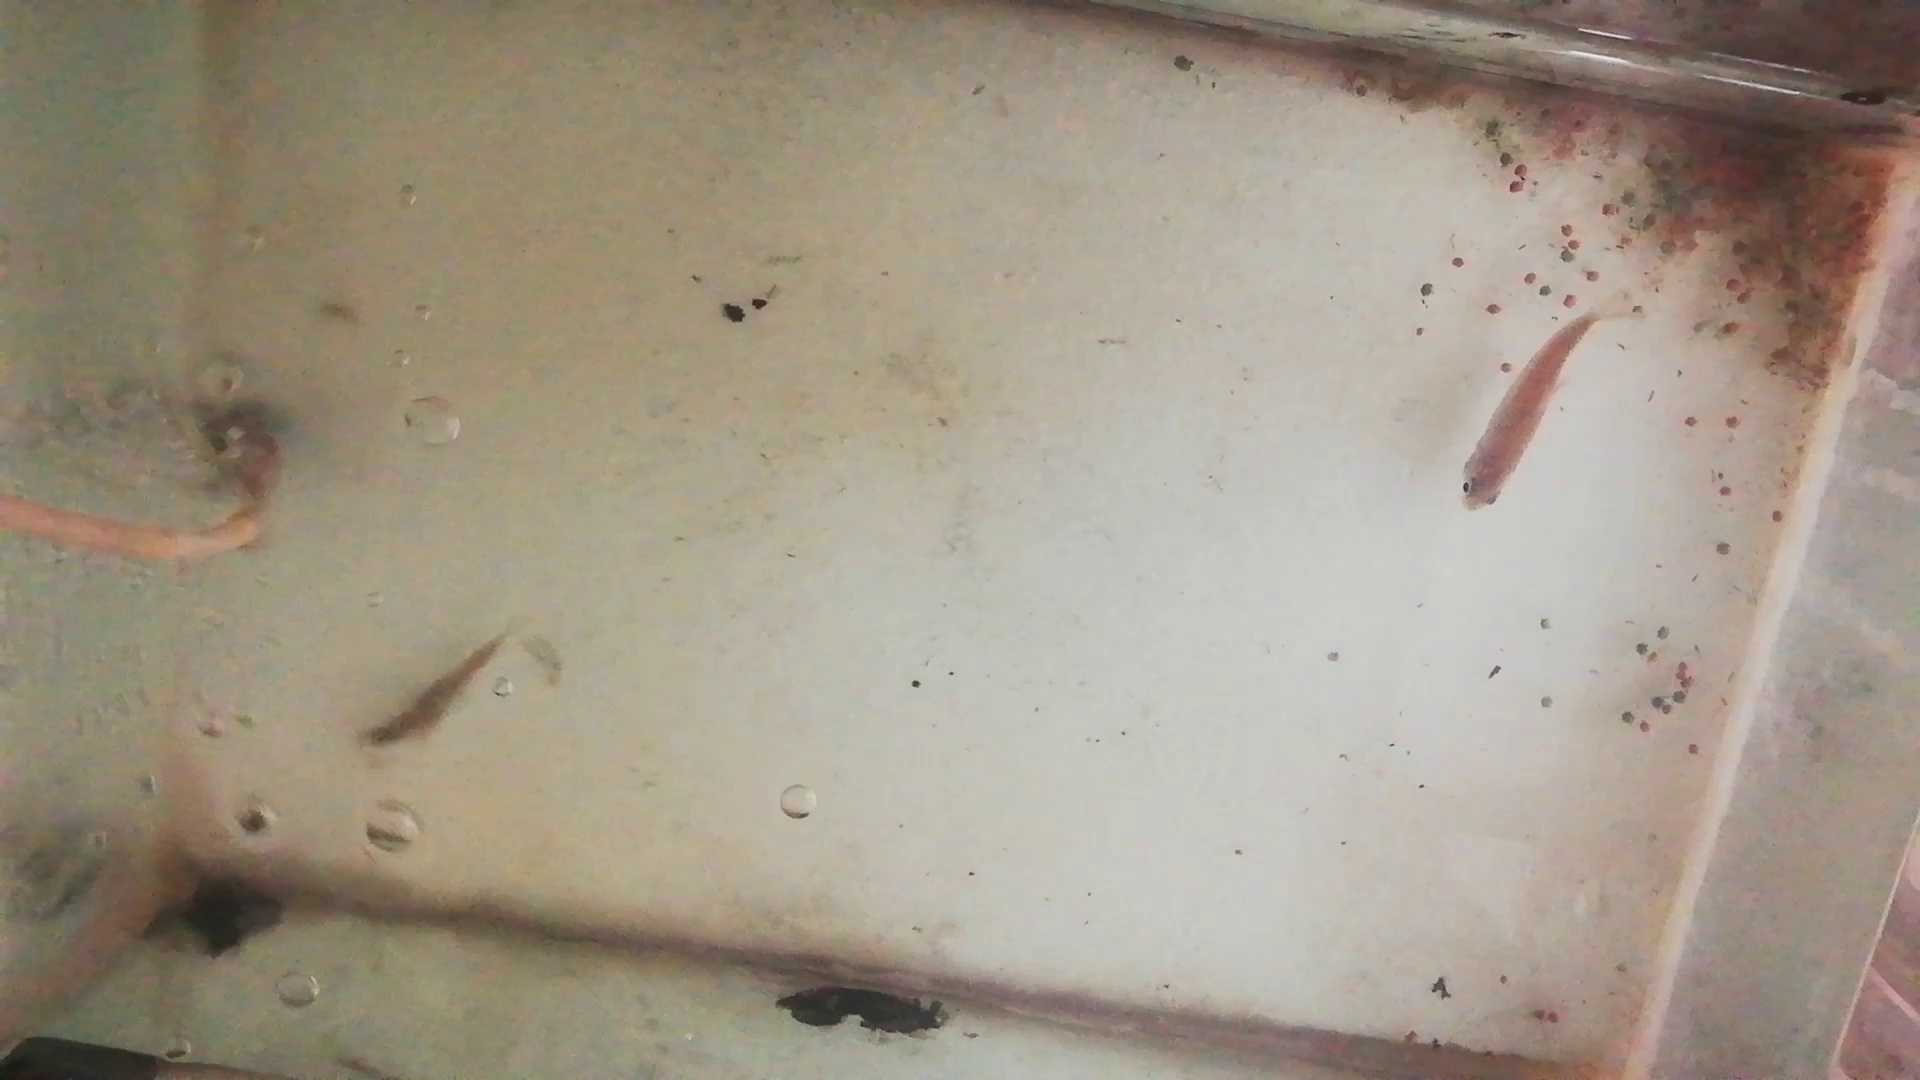fish: (1455, 313, 1596, 513), (357, 636, 502, 752)
